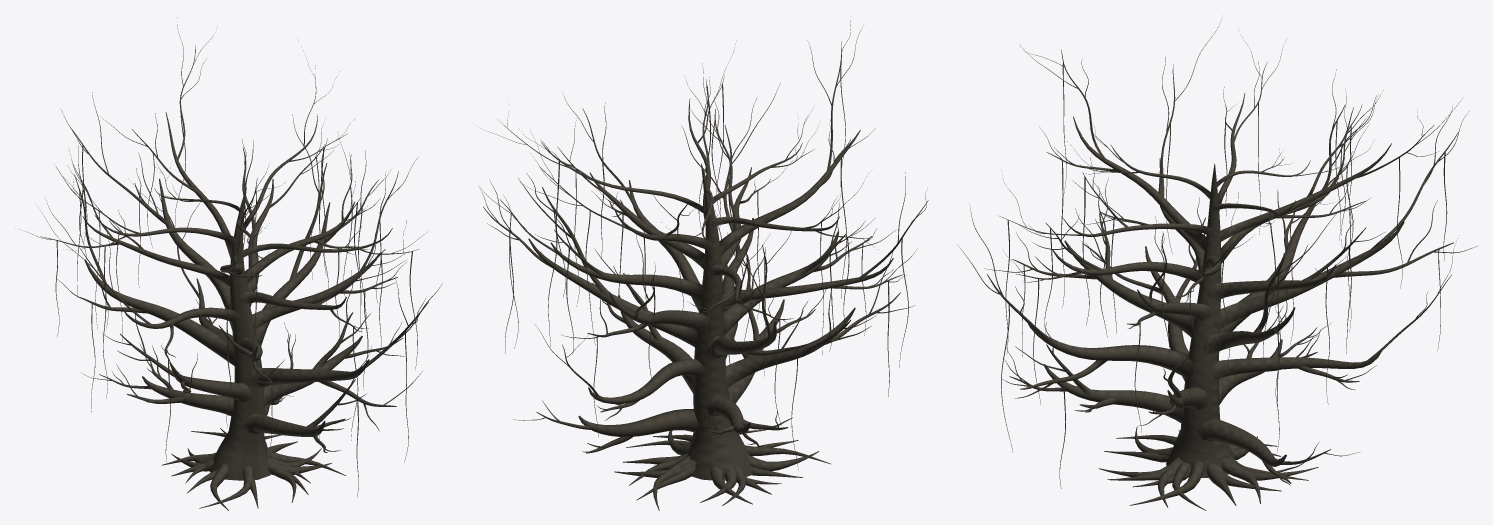
The model's file is tree.gltf.
3 views of the same model, side by side, from view 1: azimuth 30°, elevation 25°; view 2: azimuth 150°, elevation 25°; view 3: azimuth 270°, elevation 25° (orthographic). The views are drawn at different scales.
Parts seen in each view (by area): view 1: Tree_LOD0; view 2: Tree_LOD0; view 3: Tree_LOD0.
Boxes of the visible parts, x1,y1,x2,y2 form: Tree_LOD0: (25,17,442,510); Tree_LOD0: (478,21,928,510); Tree_LOD0: (957,19,1478,510).
Size of the model in its own units: 146 by 131 by 155.
Materials: 1 (1 with a texture image).
